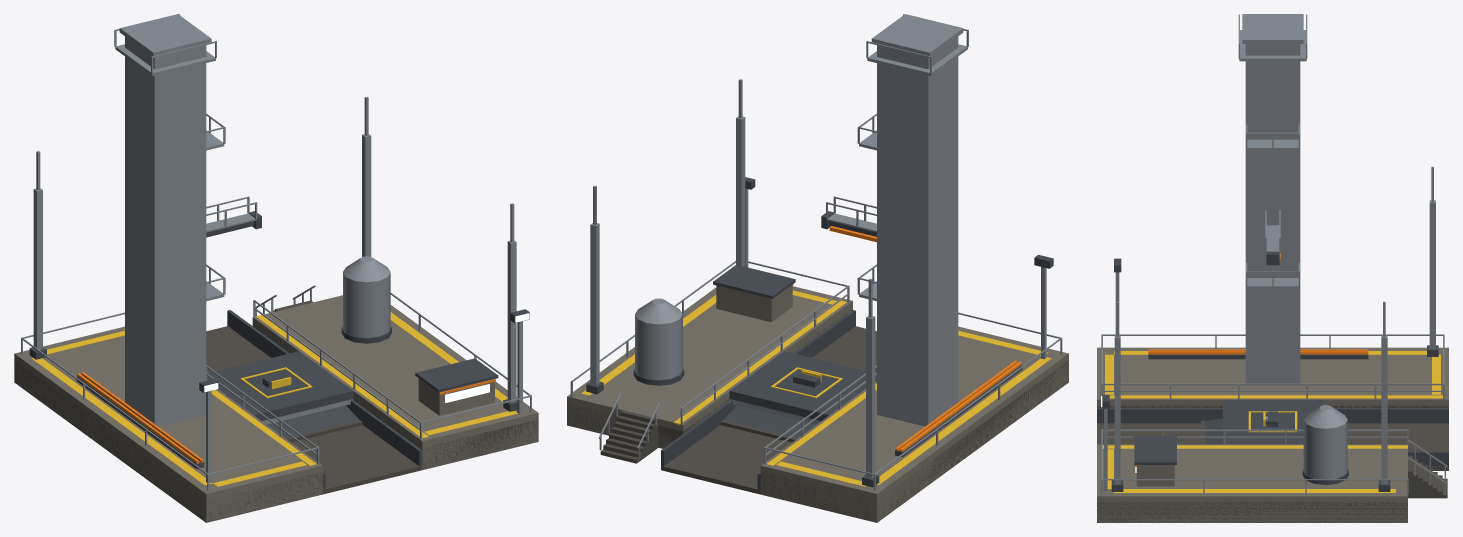
File: launch_pad.glb
3 renders of one model, left to right at view 1: azimuth 30°, elevation 25°; view 2: azimuth 150°, elevation 25°; view 3: azimuth 270°, elevation 25°, orthographic. The views are drawn at different scales.
Parts seen in each view (by area): view 1: LaunchPad_LOD0, col_LaunchTower, col_LaunchPad, col_LaunchTrench, col_LaunchMount; view 2: LaunchPad_LOD0, col_LaunchTower, col_LaunchPad, col_LaunchTrench, col_LaunchMount; view 3: LaunchPad_LOD0, col_LaunchTower, col_LaunchPad, col_LaunchTrench, col_LaunchMount.
Boxes of the visible parts, x1,y1,x2,y2 form: LaunchPad_LOD0: (14, 14, 538, 521); col_LaunchTower: (125, 16, 206, 426); col_LaunchPad: (14, 326, 322, 522); col_LaunchTrench: (252, 299, 538, 469); col_LaunchMount: (207, 351, 353, 420); LaunchPad_LOD0: (567, 14, 1068, 522); col_LaunchTower: (877, 16, 958, 426); col_LaunchPad: (760, 326, 1068, 522); col_LaunchTrench: (567, 286, 852, 448); col_LaunchMount: (729, 351, 875, 420); LaunchPad_LOD0: (1097, 14, 1448, 522); col_LaunchTower: (1245, 15, 1300, 383); col_LaunchPad: (1097, 347, 1448, 407); col_LaunchTrench: (1097, 444, 1407, 522); col_LaunchMount: (1223, 399, 1322, 444).
Size of what is drawn, in the model's own units: 24 by 28 by 24.
